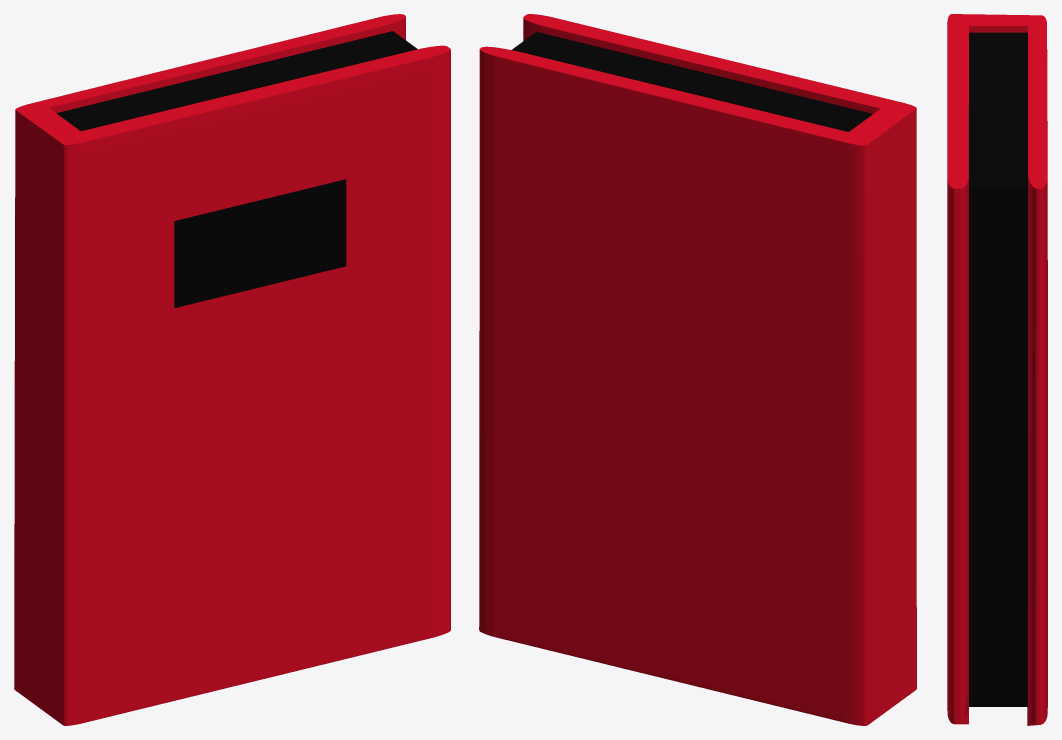
File: Book of Earth Blender.fbx
The picture shows the model from 3 angles, left to right: view 1: azimuth 30°, elevation 25°; view 2: azimuth 150°, elevation 25°; view 3: azimuth 270°, elevation 25°; orthographic projection. The views are drawn at different scales.
Parts seen in each view (by area): view 1: Cube, Text; view 2: Cube; view 3: Cube.
Boxes of the visible parts, x1,y1,x2,y2 form: Cube: (14,14,450,725); Text: (194,187,327,293); Cube: (479,14,916,725); Cube: (947,14,1047,725).
Size of the model in its own units: 141 by 200 by 34.78.
